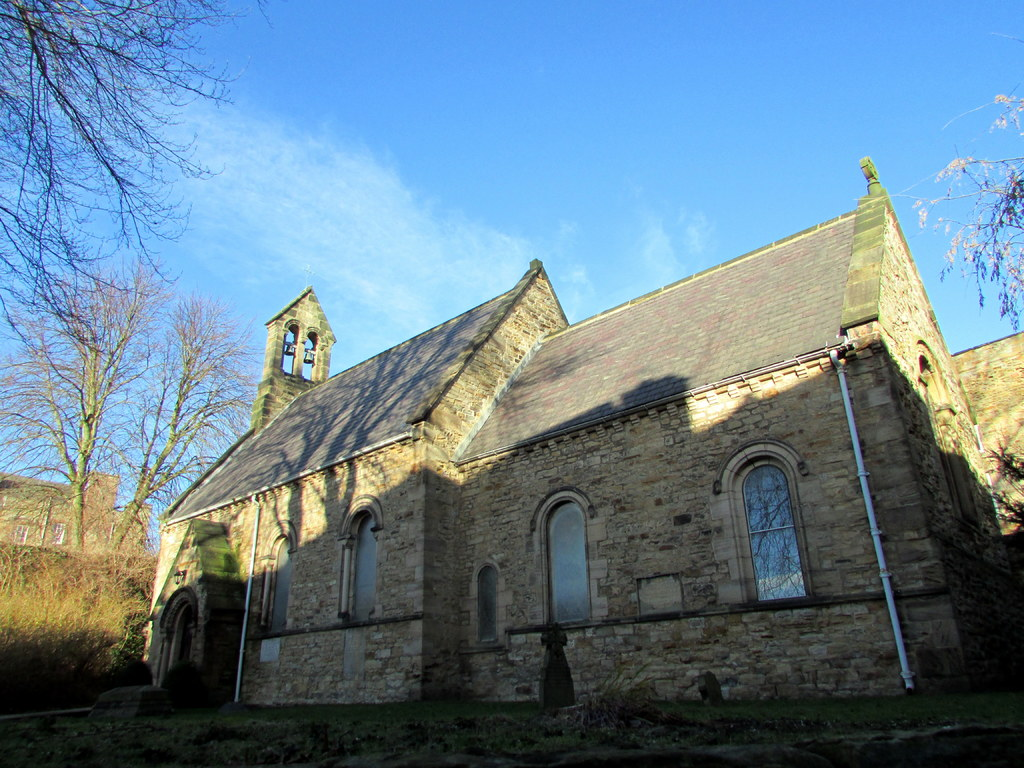Tree: (0, 0, 245, 349), (909, 90, 1023, 333)
